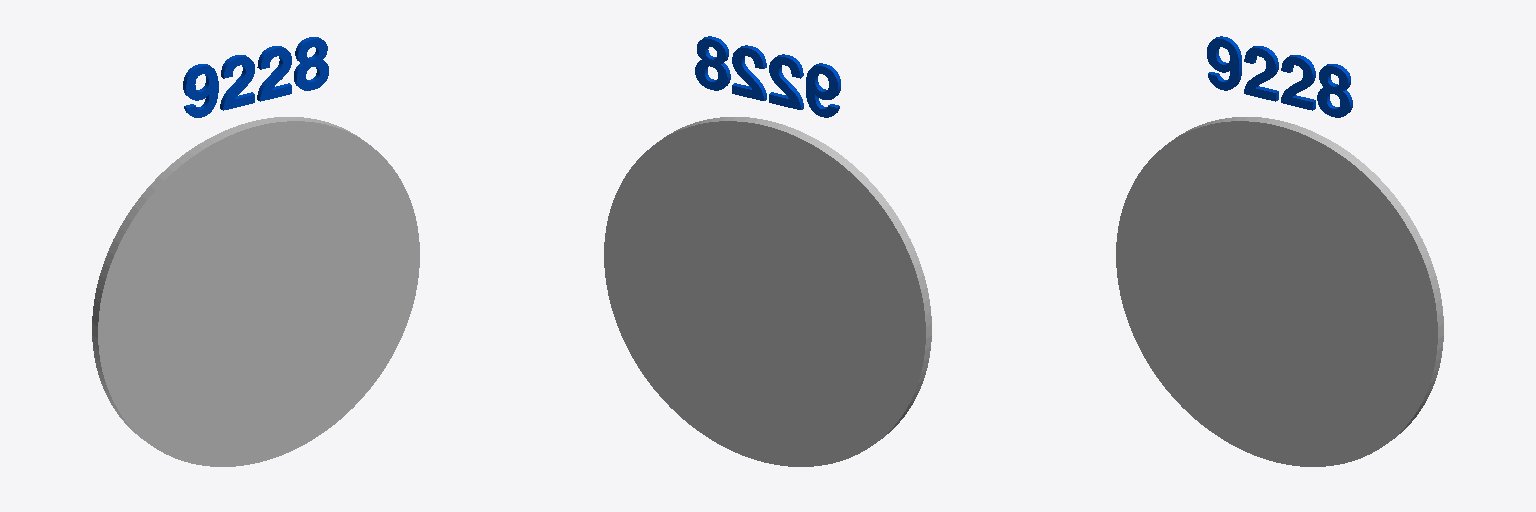
Rendered from TAZO.obj.
3 views of the same model, side by side, from view 1: azimuth 30°, elevation 25°; view 2: azimuth 150°, elevation 25°; view 3: azimuth 330°, elevation 25° (orthographic).
Visible parts, largest first — view 1: CARA_FRONTAL, 9228, EXTRUDE; view 2: CARA_TRASERA, 9228, EXTRUDE; view 3: CARA_FRONTAL, 9228, EXTRUDE.
Boxes of the visible parts, <box> form: CARA_FRONTAL: <box>98,121,419,466</box>; 9228: <box>183,37,328,117</box>; EXTRUDE: <box>92,117,366,440</box>; CARA_TRASERA: <box>604,121,925,466</box>; 9228: <box>695,36,840,117</box>; EXTRUDE: <box>657,117,931,440</box>; CARA_FRONTAL: <box>1116,121,1437,466</box>; 9228: <box>1207,36,1352,117</box>; EXTRUDE: <box>1169,117,1443,440</box>.
Bounding box in the file's own units: 3002 × 3644 × 98.07.